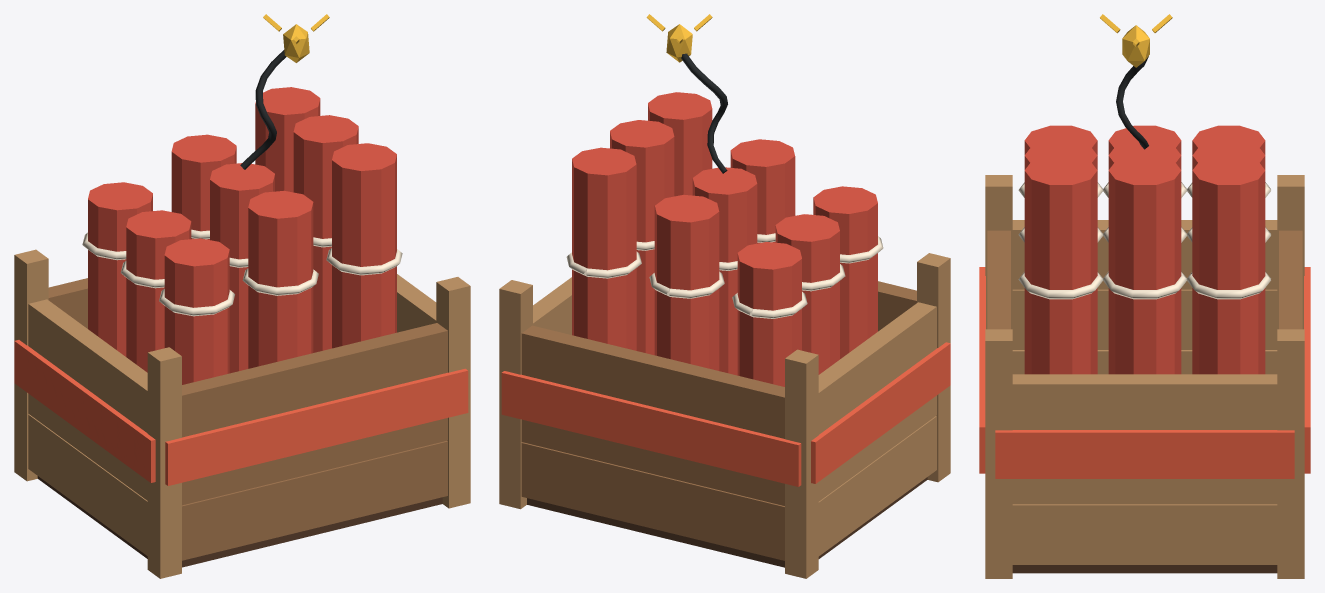
Rendered from dynamite-crate.glb.
3 views of the same model, side by side, from view 1: azimuth 30°, elevation 25°; view 2: azimuth 150°, elevation 25°; view 3: azimuth 270°, elevation 25° (orthographic). The views are drawn at different scales.
Parts seen in each view (by area): view 1: Cartoon dynamite crate side plank, Cartoon dynamite crate side plank.004, Coral painted warning stripe, Cartoon red stick.002, Cartoon red stick.001, Cartoon red stick, Cartoon dynamite crate end plank.004, Cartoon dynamite crate corner, Coral painted warning stripe.002, Cartoon dynamite crate end plank, Cartoon red stick.006, Cartoon red stick.005 (+16 smaller); view 2: Cartoon dynamite crate side plank.001, Cartoon dynamite crate side plank.005, Coral painted warning stripe.001, Cartoon red stick.008, Cartoon red stick.007, Cartoon red stick.006, Cartoon dynamite crate end plank.004, Coral painted warning stripe.002, Cartoon dynamite crate end plank, Cartoon dynamite crate corner.001, Cartoon red stick.005, Cartoon red stick (+16 smaller); view 3: Cartoon dynamite crate end plank.001, Cartoon red stick.002, Cartoon red stick.005, Cartoon red stick.008, Cartoon dynamite crate end plank.005, Coral painted warning stripe.003, Cartoon dynamite crate end plank.003, Cartoon dynamite crate corner.002, Cartoon dynamite crate corner.003, Cartoon dynamite crate end plank.002, Cartoon dynamite crate end plank.004, Cartoon dynamite crate side plank.004 (+18 smaller).
Boxes of the visible parts, x1,y1,x2,y2 form: Cartoon dynamite crate side plank: [182, 441, 447, 560]; Cartoon dynamite crate side plank.004: [182, 323, 447, 437]; Coral painted warning stripe: [165, 368, 468, 485]; Cartoon red stick.002: [332, 143, 396, 348]; Cartoon red stick.001: [248, 190, 313, 368]; Cartoon red stick: [164, 238, 229, 384]; Cartoon dynamite crate end plank.004: [28, 299, 147, 432]; Cartoon dynamite crate corner: [147, 347, 181, 578]; Coral painted warning stripe.002: [14, 340, 155, 482]; Cartoon dynamite crate end plank: [28, 414, 147, 555]; Cartoon red stick.006: [88, 182, 152, 356]; Cartoon red stick.005: [293, 115, 358, 352]; Cartoon dynamite crate side plank.001: [521, 442, 784, 560]; Cartoon dynamite crate side plank.005: [521, 325, 784, 438]; Coral painted warning stripe.001: [501, 371, 801, 486]; Cartoon red stick.008: [572, 147, 636, 350]; Cartoon red stick.007: [654, 194, 719, 370]; Cartoon red stick.006: [737, 242, 801, 386]; Cartoon dynamite crate end plank.004: [818, 302, 936, 434]; Coral painted warning stripe.002: [811, 342, 950, 483]; Cartoon dynamite crate end plank: [818, 416, 936, 556]; Cartoon dynamite crate corner.001: [785, 349, 818, 578]; Cartoon red stick.005: [610, 120, 674, 355]; Cartoon red stick: [813, 186, 877, 358]; Cartoon dynamite crate end plank.001: [1012, 504, 1277, 564]; Cartoon red stick.002: [1024, 155, 1097, 374]; Cartoon red stick.005: [1108, 155, 1181, 374]; Cartoon red stick.008: [1192, 155, 1265, 374]; Cartoon dynamite crate end plank.005: [1012, 374, 1277, 429]; Coral painted warning stripe.003: [995, 430, 1294, 478]; Cartoon dynamite crate end plank.003: [1012, 479, 1277, 504]; Cartoon dynamite crate corner.002: [985, 329, 1012, 578]; Cartoon dynamite crate corner.003: [1277, 329, 1304, 578]; Cartoon dynamite crate end plank.002: [1012, 289, 1277, 349]; Cartoon dynamite crate end plank.004: [1012, 220, 1277, 289]; Cartoon dynamite crate side plank.004: [987, 230, 1010, 329].
Size of the model in its own units: 1.11 by 1.51 by 0.908.
